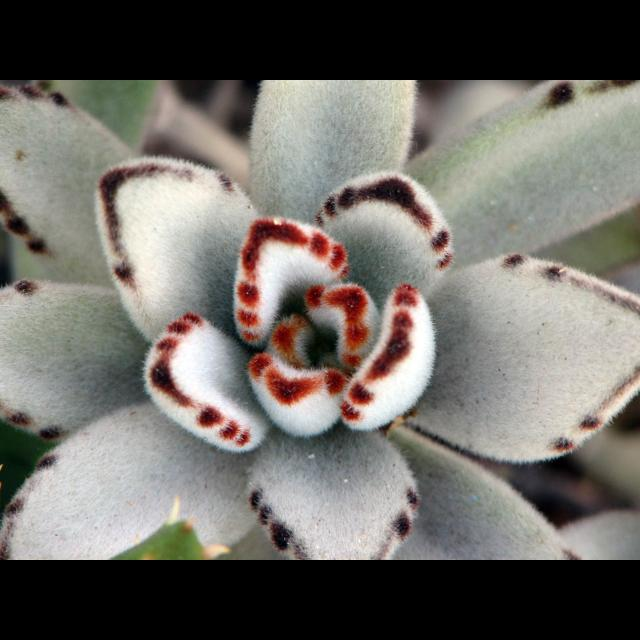Flower: (0, 80, 630, 560)
